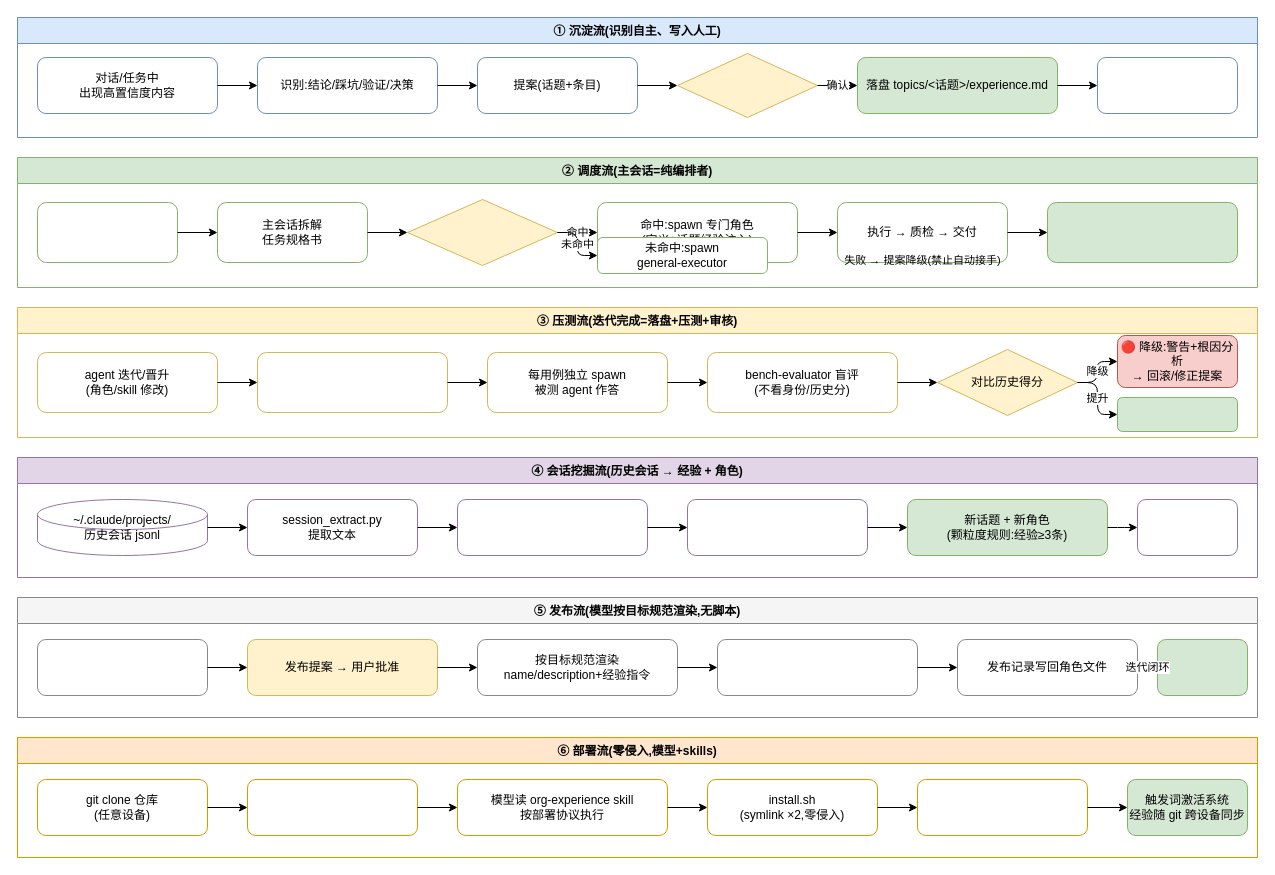
The diagram is 1275 pixels wide and 875 high, and some of its shapes have lost their labels. Here are the shapes that lost their labels. From the top down, the centre of each, then its label:
point (747, 85): 用户确认/修改
point (1167, 85): 下次任务注入该经验
point (107, 232): 任务进来 (有产出物)
point (482, 232): 匹配 INDEX 角色池
point (1142, 232): 回写提案→确认→沉淀
point (352, 382): 压测铁律触发 无用例先建用例
point (1177, 414): 🟢 提升/持平:更新 baseline 连续2轮 → 🏅已验证
point (552, 527): 挖掘 agent 分析 (org-general-executor)
point (777, 527): 候选条目提案 → 确认
point (1187, 527): 首轮用例 + 压测
point (122, 667): 角色稳定 (连续2轮满分)
point (817, 667): 写盘目标 agents 目录 claude/codex/cursor
point (1202, 667): 迭代后重新发布覆盖
point (332, 807): 开会话说 "部署 org"
point (1002, 807): doctor.sh 验证全绿
